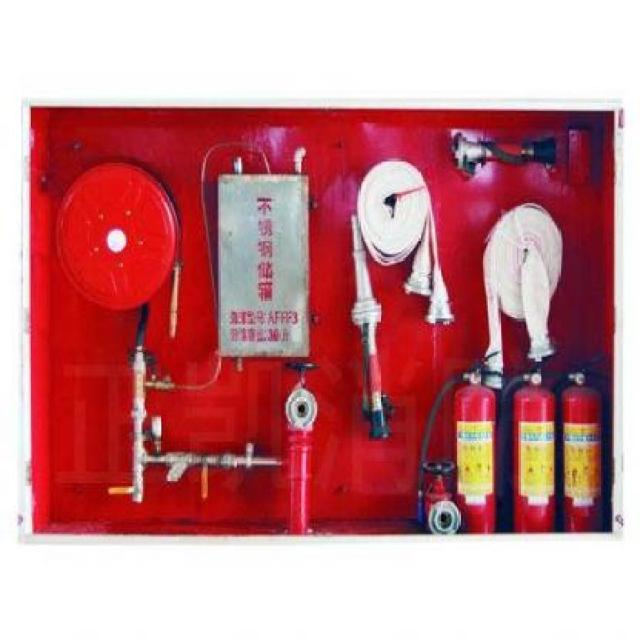firehydrant: (12, 92, 630, 550)
